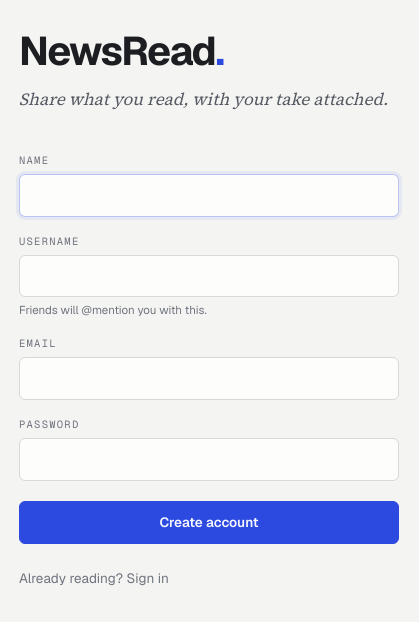
Test: RegisterPage › shows an error when registration fails
Type "Al" into the field labelled "Name" at (209, 195), box [19, 174, 399, 217]
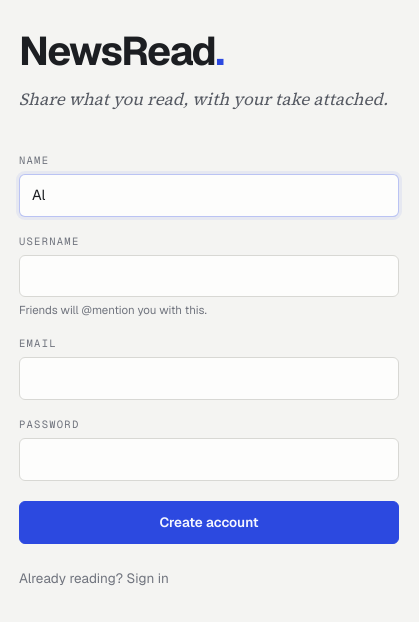
Type "alice" into the field labelled "Username" at (209, 276), box [19, 255, 399, 297]
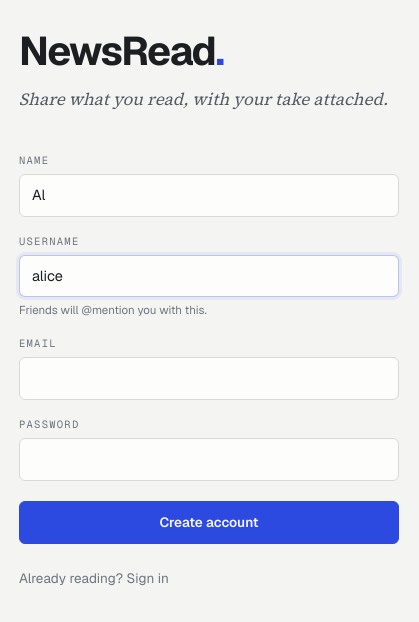
Type "a@b.c" into the field labelled "Email" at (209, 379), box [19, 357, 399, 400]
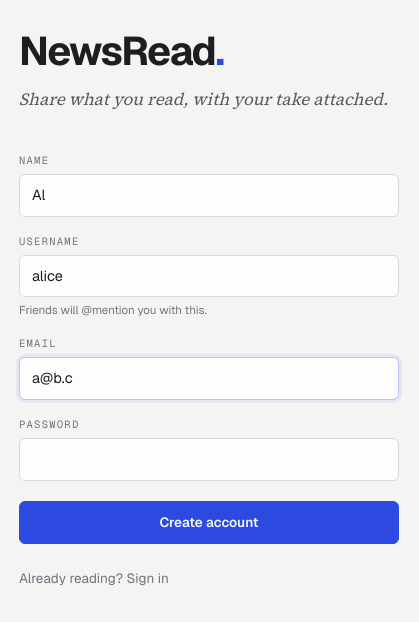
Type "password123" into the password field labelled "Password" at (209, 459), box [19, 438, 399, 481]
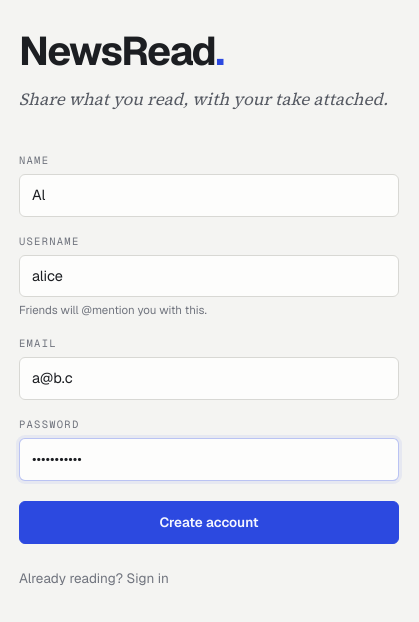
Click the button "Create account" at (209, 522), box [19, 501, 399, 544]
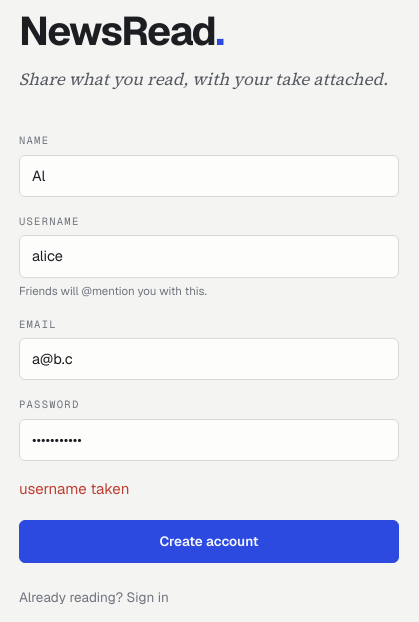
expect the text "username taken" is shown: met, box [19, 479, 129, 498]
